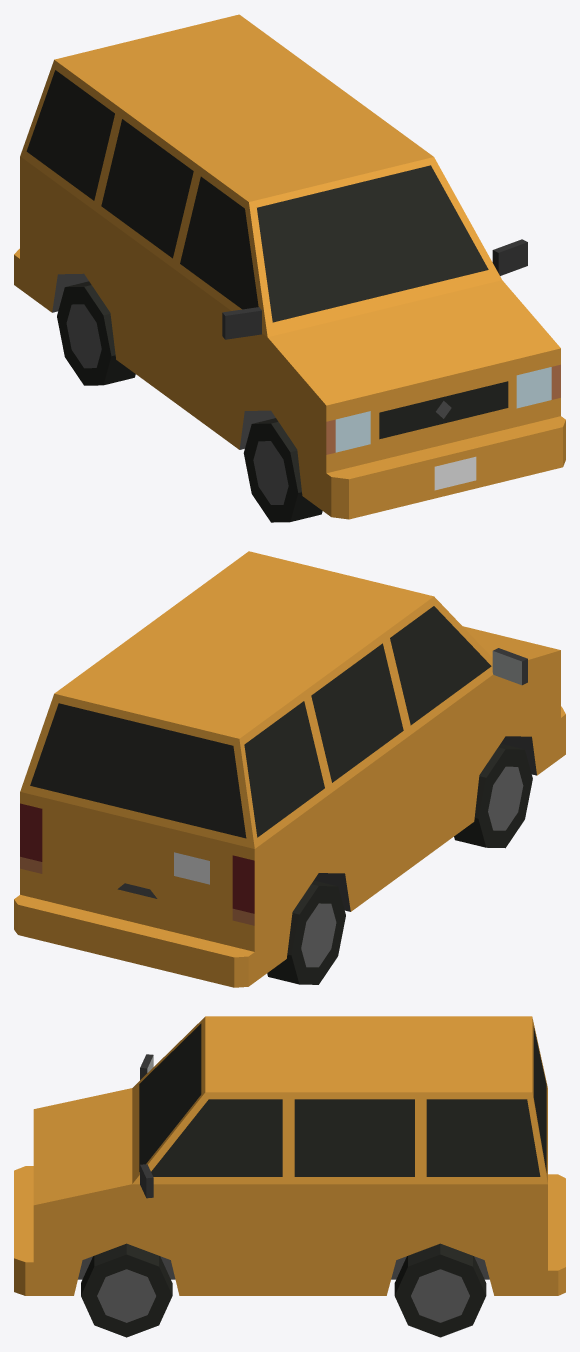
The model's file is Veh_Minivan_Yellow.obj.
3 renders of one model, top to bottom at view 1: azimuth 30°, elevation 25°; view 2: azimuth 150°, elevation 25°; view 3: azimuth 270°, elevation 25°, orthographic. The views are drawn at different scales.
Size of the model in its own units: 1.31 by 1.16 by 2.46.
